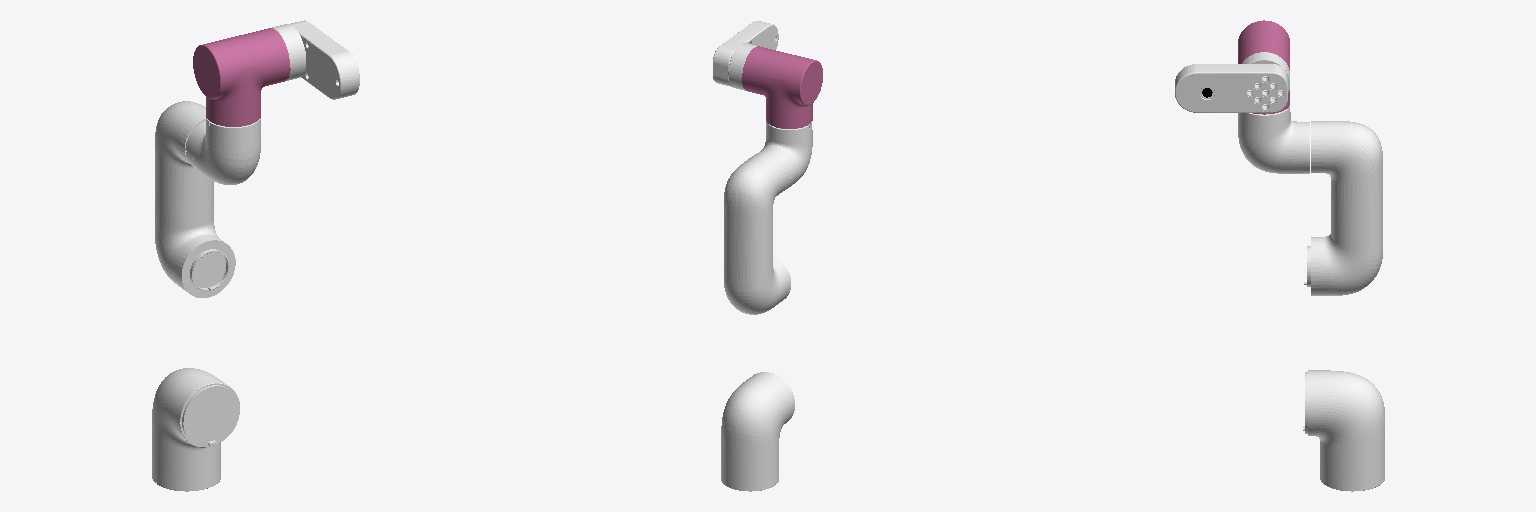
The robot description file, URDF, robot "mycobot_280_jn":
<?xml version="1.0"?>
<robot name="mycobot_280_jn">
  <link name="world"/>
  <joint name="world_to_joint1" type="fixed"><parent link="world"/><child link="joint1"/><origin xyz="0 0 0" rpy="0 0 0"/></joint>

  <link name="joint1">
    <visual>
      <geometry><mesh filename="package://mycobot_description/urdf/mycobot_280_jn_sim/meshes/visual/joint1.dae"/></geometry>
    </visual>
    <collision>
      <geometry><mesh filename="package://mycobot_description/urdf/mycobot_280_jn_sim/meshes/collision/joint1.stl"/></geometry>
    </collision>
    <inertial>
      <origin xyz="-0.000007 -0.000080 0.049738" rpy="0 0 0"/>
      <mass value="0.51726"/>
      <inertia ixx="1.2523e-03" ixy="7.0339e-09" ixz="-6.3450e-08" iyy="9.3955e-04" iyz="1.1529e-06" izz="1.2061e-03"/>
    </inertial>
  </link>
  <link name="joint2">
    <visual>
      <geometry><mesh filename="package://mycobot_description/urdf/mycobot_280_jn_sim/meshes/visual/joint2.dae"/></geometry>
    </visual>
    <collision>
      <geometry><mesh filename="package://mycobot_description/urdf/mycobot_280_jn_sim/meshes/collision/joint2.stl"/></geometry>
    </collision>
    <inertial>
      <origin xyz="-0.000000 -0.006642 -0.021543" rpy="0 0 0"/>
      <mass value="0.06483"/>
      <inertia ixx="4.7296e-05" ixy="-1.4455e-10" ixz="4.0893e-11" iyy="4.2690e-05" iyz="5.2950e-06" izz="2.4363e-05"/>
    </inertial>
  </link>
  <link name="joint3">
    <visual>
      <geometry><mesh filename="package://mycobot_description/urdf/mycobot_280_jn_sim/meshes/visual/joint3.dae"/></geometry>
    </visual>
    <collision>
      <geometry><mesh filename="package://mycobot_description/urdf/mycobot_280_jn_sim/meshes/collision/joint3.stl"/></geometry>
    </collision>
    <inertial>
      <origin xyz="-0.054329 -0.000001 0.055329" rpy="0 0 0"/>
      <mass value="0.11472"/>
      <inertia ixx="4.1667e-05" ixy="-4.5301e-09" ixz="-7.2144e-07" iyy="2.1506e-04" iyz="-8.8599e-10" izz="2.0847e-04"/>
    </inertial>
  </link>
  <link name="joint4">
    <visual>
      <geometry><mesh filename="package://mycobot_description/urdf/mycobot_280_jn_sim/meshes/visual/joint4.dae"/></geometry>
    </visual>
    <collision>
      <geometry><mesh filename="package://mycobot_description/urdf/mycobot_280_jn_sim/meshes/collision/joint4.stl"/></geometry>
    </collision>
    <inertial>
      <origin xyz="-0.045854 0.000000 0.007555" rpy="0 0 0"/>
      <mass value="0.09148"/>
      <inertia ixx="3.0829e-05" ixy="2.4590e-09" ixz="-3.0073e-06" iyy="1.3707e-04" iyz="1.3305e-09" izz="1.2859e-04"/>
    </inertial>
  </link>
  <link name="joint5">
    <visual>
      <geometry><mesh filename="package://mycobot_description/urdf/mycobot_280_jn_sim/meshes/visual/joint5.dae"/></geometry>
    </visual>
    <collision>
      <geometry><mesh filename="package://mycobot_description/urdf/mycobot_280_jn_sim/meshes/collision/joint5.stl"/></geometry>
    </collision>
    <inertial>
      <origin xyz="0.000001 -0.009519 -0.008481" rpy="0 0 0"/>
      <mass value="0.02935"/>
      <inertia ixx="1.1293e-05" ixy="2.2528e-10" ixz="1.0500e-10" iyy="8.1426e-06" iyz="1.6096e-06" izz="8.8742e-06"/>
    </inertial>
  </link>
  <link name="joint6">
    <visual>
      <geometry><mesh filename="package://mycobot_description/urdf/mycobot_280_jn_sim/meshes/visual/joint6.dae"/></geometry>
    </visual>
    <collision>
      <geometry><mesh filename="package://mycobot_description/urdf/mycobot_280_jn_sim/meshes/collision/joint6.stl"/></geometry>
    </collision>
    <inertial>
      <origin xyz="-0.000000 0.005619 -0.009142" rpy="0 0 0"/>
      <mass value="0.03671"/>
      <inertia ixx="1.6852e-05" ixy="1.3225e-11" ixz="9.2639e-11" iyy="1.2050e-05" iyz="-8.3674e-07" izz="1.2581e-05"/>
    </inertial>
  </link>
  <link name="joint6_flange">
    <visual>
      <geometry><mesh filename="package://mycobot_description/urdf/mycobot_280_jn_sim/meshes/visual/joint6_flange.dae"/></geometry>
    </visual>
    <collision>
      <geometry><mesh filename="package://mycobot_description/urdf/mycobot_280_jn_sim/meshes/collision/joint6_flange.stl"/></geometry>
    </collision>
    <inertial>
      <origin xyz="-0.000000 -0.000000 -0.005150" rpy="0 0 0"/>
      <mass value="0.00565"/>
      <inertia ixx="6.0852e-07" ixy="-5.1861e-24" ixz="1.4684e-24" iyy="6.0852e-07" iyz="-7.5632e-16" izz="1.0405e-06"/>
    </inertial>
  </link>
  <joint name="joint2_to_joint1" type="revolute">
    <parent link="joint1"/><child link="joint2"/>
    <origin xyz="0 0 0.15756" rpy="0 0 0"/>
    <axis xyz="0 0 1"/>
    <limit effort="10.0" lower="-2.9321" upper="2.9321" velocity="1.0"/>
    <dynamics damping="0.1" friction="0.01"/>
  </joint>
  <joint name="joint3_to_joint2" type="revolute">
    <parent link="joint2"/><child link="joint3"/>
    <origin xyz="0 0 -0.001" rpy="0 1.5708 -1.5708"/>
    <axis xyz="0 0 1"/>
    <limit effort="10.0" lower="-2.4434" upper="2.4434" velocity="1.0"/>
    <dynamics damping="0.1" friction="0.01"/>
  </joint>
  <joint name="joint4_to_joint3" type="revolute">
    <parent link="joint3"/><child link="joint4"/>
    <origin xyz="-0.1104 0 0" rpy="0 0 0"/>
    <axis xyz="0 0 1"/>
    <limit effort="10.0" lower="-2.6179" upper="2.6179" velocity="1.0"/>
    <dynamics damping="0.1" friction="0.01"/>
  </joint>
  <joint name="joint5_to_joint4" type="revolute">
    <parent link="joint4"/><child link="joint5"/>
    <origin xyz="-0.096 0 0.06462" rpy="0 0 -1.5708"/>
    <axis xyz="0 0 1"/>
    <limit effort="10.0" lower="-2.6179" upper="2.6179" velocity="1.0"/>
    <dynamics damping="0.1" friction="0.01"/>
  </joint>
  <joint name="joint6_to_joint5" type="revolute">
    <parent link="joint5"/><child link="joint6"/>
    <origin xyz="0 -0.07318 0" rpy="1.5708 -1.5708 0"/>
    <axis xyz="0 0 1"/>
    <limit effort="10.0" lower="-2.7052" upper="2.7925" velocity="1.0"/>
    <dynamics damping="0.1" friction="0.01"/>
  </joint>
  <joint name="joint6output_to_joint6" type="revolute">
    <parent link="joint6"/><child link="joint6_flange"/>
    <origin xyz="0 0.0456 0" rpy="-1.5708 0 0"/>
    <axis xyz="0 0 1"/>
    <limit effort="10.0" lower="-3.14159" upper="3.14159" velocity="1.0"/>
    <dynamics damping="0.1" friction="0.01"/>
  </joint>
  <joint name="joint6output_to_camera_flange" type="fixed">
    <parent link="joint6_flange"/><child link="camera_flange"/>
    <origin xyz="0 0 0.01" rpy="1.5708 0 0"/>
  </joint>
  <link name="camera_flange">
    <visual>
      <geometry><mesh filename="package://mycobot_description/urdf/mycobot_280_jn_sim/meshes/visual/camera_flange.dae"/></geometry>
    </visual>
    <collision>
      <geometry><mesh filename="package://mycobot_description/urdf/mycobot_280_jn_sim/meshes/collision/camera_flange.stl"/></geometry>
    </collision>
    <inertial>
      <origin xyz="0.023130 0.000000 -0.000136" rpy="0 0 0"/>
      <mass value="0.03000"/>
      <inertia ixx="3.1836e-06" ixy="2.6569e-11" ixz="-3.1215e-09" iyy="1.7767e-05" iyz="4.1651e-11" izz="1.5849e-05"/>
    </inertial>
  </link>

  <!-- Simulated camera, placed on the lens of Elephant's camera-module mesh and looking out of it. -->
  <link name="camera_link"/>
  <joint name="camera_flange_to_camera_link" type="fixed">
    <parent link="camera_flange"/><child link="camera_link"/>
    <origin xyz="0.0415 0.0083 0.0000" rpy="0 0 1.5708"/>
  </joint>
  <gazebo reference="camera_link">
    <sensor name="wrist_camera" type="camera">
      <always_on>1</always_on><update_rate>30</update_rate><visualize>true</visualize>
      <topic>wrist_camera/image_raw</topic>
      <camera>
        <horizontal_fov>1.047</horizontal_fov>
        <image><width>640</width><height>480</height><format>R8G8B8</format></image>
        <clip><near>0.02</near><far>5.0</far></clip>
      </camera>
    </sensor>
  </gazebo>

  <!-- Gazebo: gravity off on the moving links (passive joints would otherwise fall; no controller yet) -->
  <gazebo reference="joint2"><turnGravityOff>true</turnGravityOff></gazebo>
  <gazebo reference="joint3"><turnGravityOff>true</turnGravityOff></gazebo>
  <gazebo reference="joint4"><turnGravityOff>true</turnGravityOff></gazebo>
  <gazebo reference="joint5"><turnGravityOff>true</turnGravityOff></gazebo>
  <gazebo reference="joint6"><turnGravityOff>true</turnGravityOff></gazebo>
  <gazebo reference="joint6_flange"><turnGravityOff>true</turnGravityOff></gazebo>
  <gazebo reference="camera_flange"><turnGravityOff>true</turnGravityOff></gazebo>
</robot>

--- What the picture shows (computed from the rendered views, not written in the file) ---
3 views of the same robot in one strip: view 1: azimuth 30°, elevation 25°; view 2: azimuth 150°, elevation 25°; view 3: azimuth 270°, elevation 25° (orthographic).
Robot: mycobot_280_jn — 10 links, 9 joints (6 revolute, 3 fixed); root link world; default pose: all joints at 0.
Links seen in each view (by area): view 1: joint4, joint2, joint6, joint5, camera_flange, joint6_flange; view 2: joint4, joint2, joint6, joint5, camera_flange, joint6_flange; view 3: joint4, joint2, camera_flange, joint5, joint6.
Boxes of the visible links, x1,y1,x2,y2 form: joint4: (155, 101, 235, 297); joint2: (152, 368, 239, 491); joint6: (193, 28, 290, 126); joint5: (185, 118, 260, 184); camera_flange: (290, 20, 359, 99); joint6_flange: (272, 24, 305, 80); joint4: (724, 152, 790, 314); joint2: (721, 372, 794, 491); joint6: (742, 46, 822, 128); joint5: (760, 121, 812, 190); camera_flange: (713, 21, 778, 86); joint6_flange: (728, 43, 756, 90); joint4: (1304, 121, 1382, 295); joint2: (1303, 370, 1384, 491); camera_flange: (1175, 64, 1287, 112); joint5: (1238, 106, 1309, 173); joint6: (1238, 20, 1289, 114).
Bounding box of the posed robot: 0.0876 × 0.1541 × 0.3619 m (x, y, z).
Meshes: 8 distinct files referenced, 6 mesh visuals loaded (6 Collada DAE); not drawn: 2 (reference not matched to a file when rendering).
